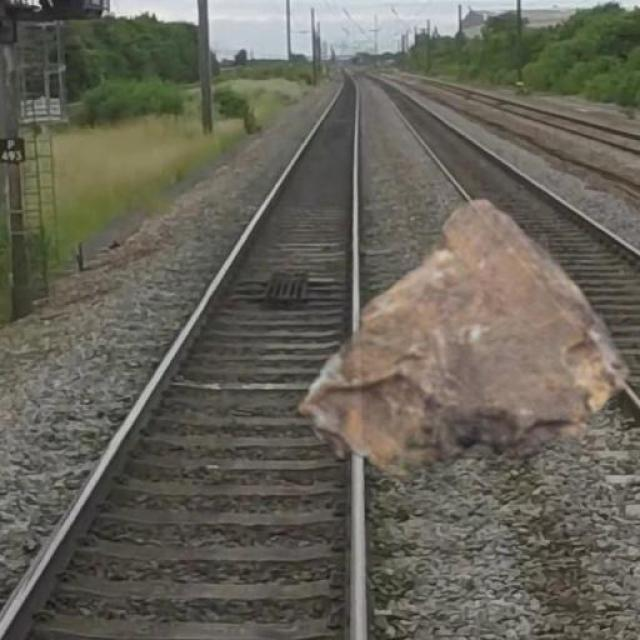Stone: (298, 193, 630, 485)
